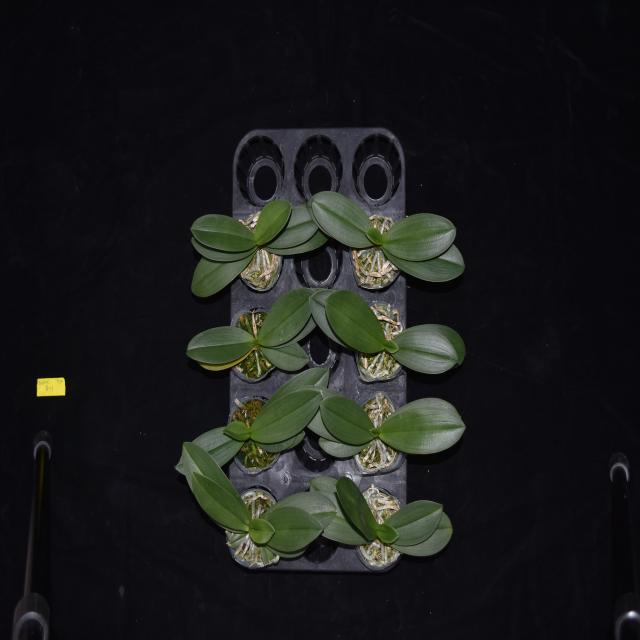leaf: (379, 395, 466, 455), (319, 289, 389, 362), (306, 189, 381, 248), (249, 391, 324, 446), (181, 441, 247, 503), (174, 421, 242, 480), (311, 474, 365, 544), (260, 360, 334, 410), (386, 240, 470, 283), (257, 288, 315, 346), (190, 476, 246, 536), (386, 214, 456, 261), (392, 328, 458, 376), (188, 256, 258, 301), (256, 509, 325, 554), (392, 510, 456, 557), (183, 328, 257, 368), (386, 497, 445, 545), (192, 208, 258, 249), (305, 285, 349, 345), (253, 192, 301, 245), (321, 394, 371, 444), (337, 476, 374, 542), (268, 490, 333, 524), (268, 204, 314, 248), (189, 231, 254, 261), (266, 229, 329, 258), (412, 322, 471, 352), (262, 340, 308, 372), (304, 406, 338, 444), (318, 436, 370, 460), (222, 412, 251, 448), (248, 512, 274, 549), (374, 519, 398, 547), (382, 333, 398, 357), (365, 227, 385, 246), (367, 420, 378, 440)
